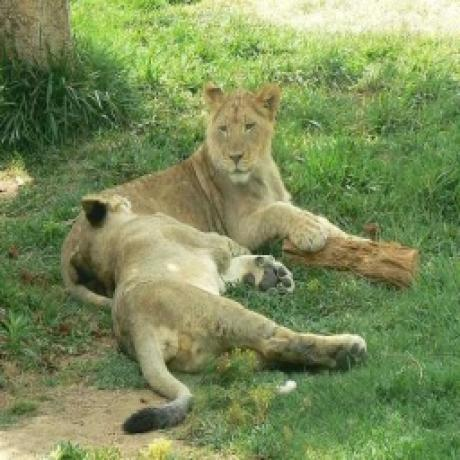Lion: (68, 194, 368, 437), (84, 80, 345, 250)
